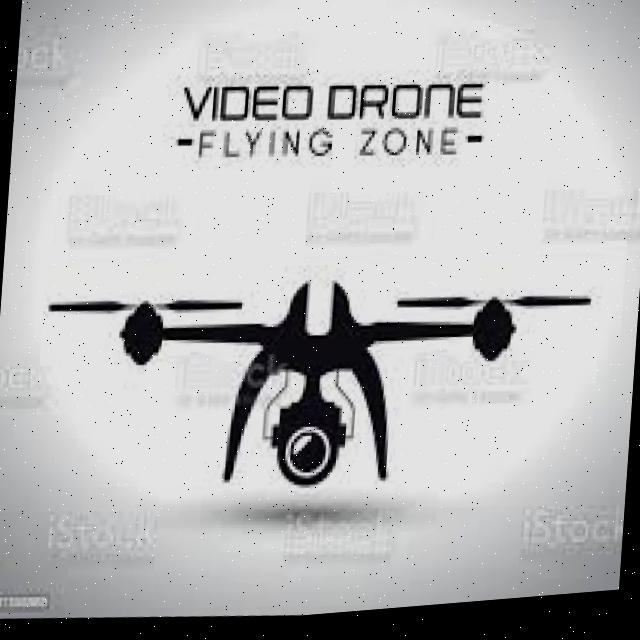drone: (19, 196, 602, 541)
